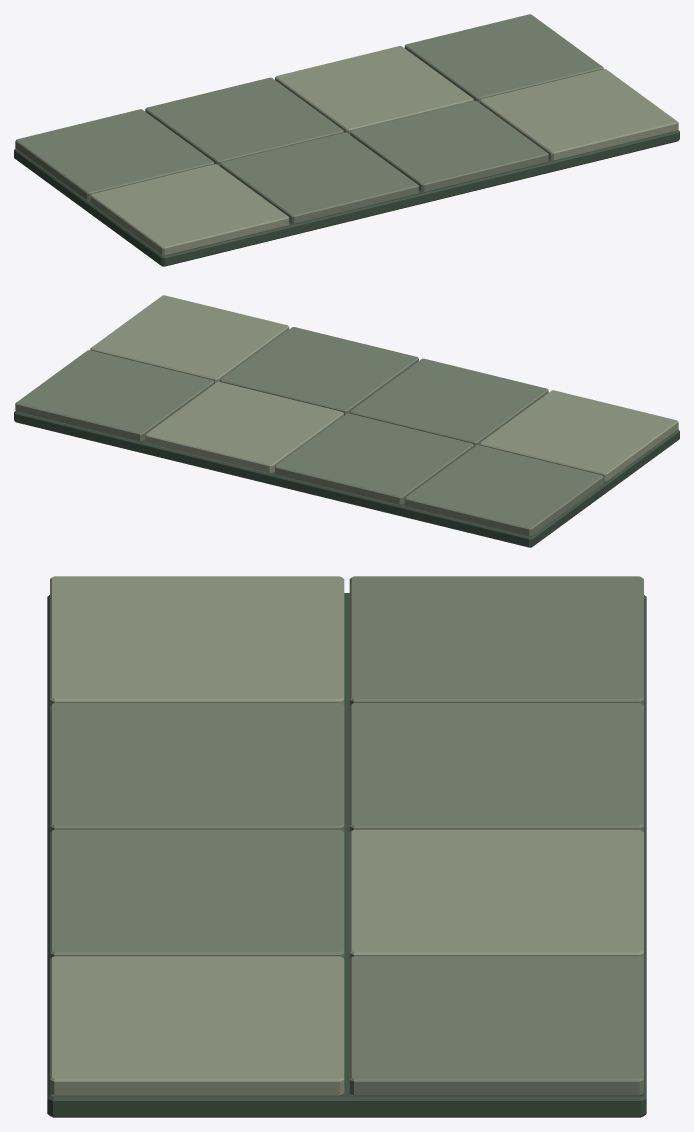
Rendered from floor-large.glb.
The picture shows the model from 3 angles, top to bottom: view 1: azimuth 30°, elevation 25°; view 2: azimuth 150°, elevation 25°; view 3: azimuth 270°, elevation 25°; orthographic projection. The views are drawn at different scales.
Parts seen in each view (by area): view 1: floor-large__body; view 2: floor-large__body; view 3: floor-large__body.
Boxes of the visible parts, <box> form: floor-large__body: <box>14,14,679,266</box>; floor-large__body: <box>14,295,679,547</box>; floor-large__body: <box>47,576,646,1117</box>.
Bounding box in the file's own units: 4 × 0.14 × 2.
